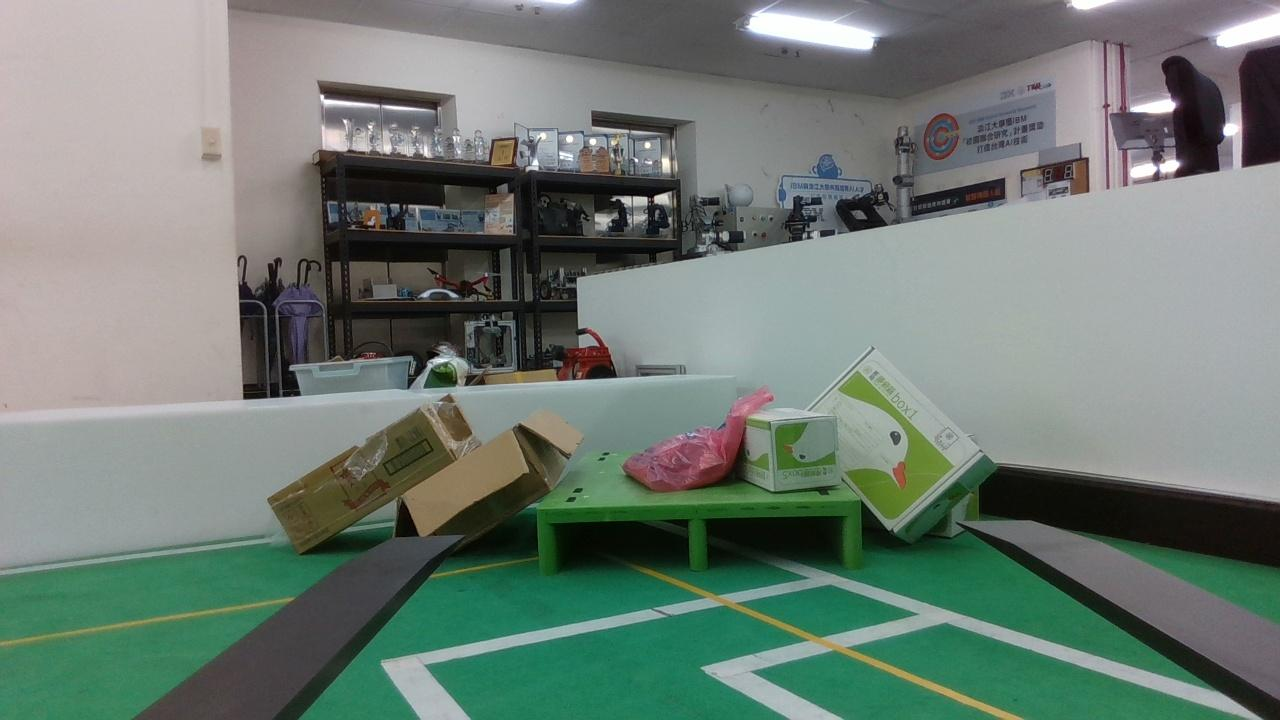Pallet: (536, 500, 862, 576)
